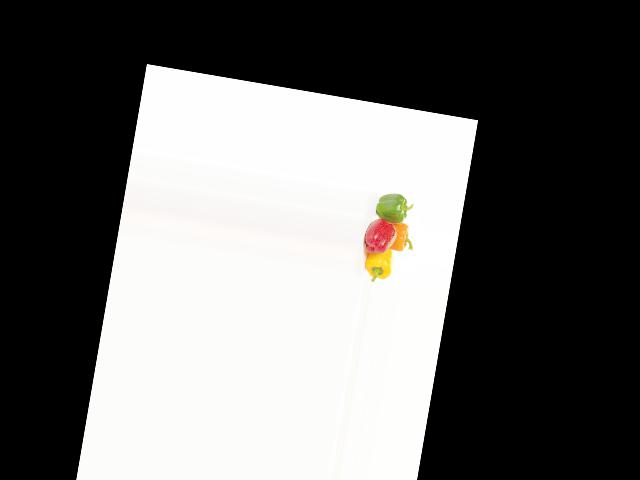bell_pepper: (369, 189, 412, 226)
